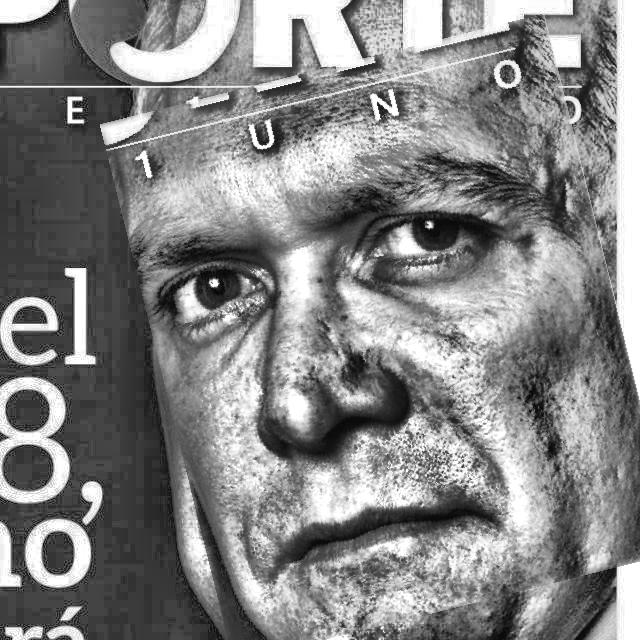sad: (130, 36, 640, 638)
